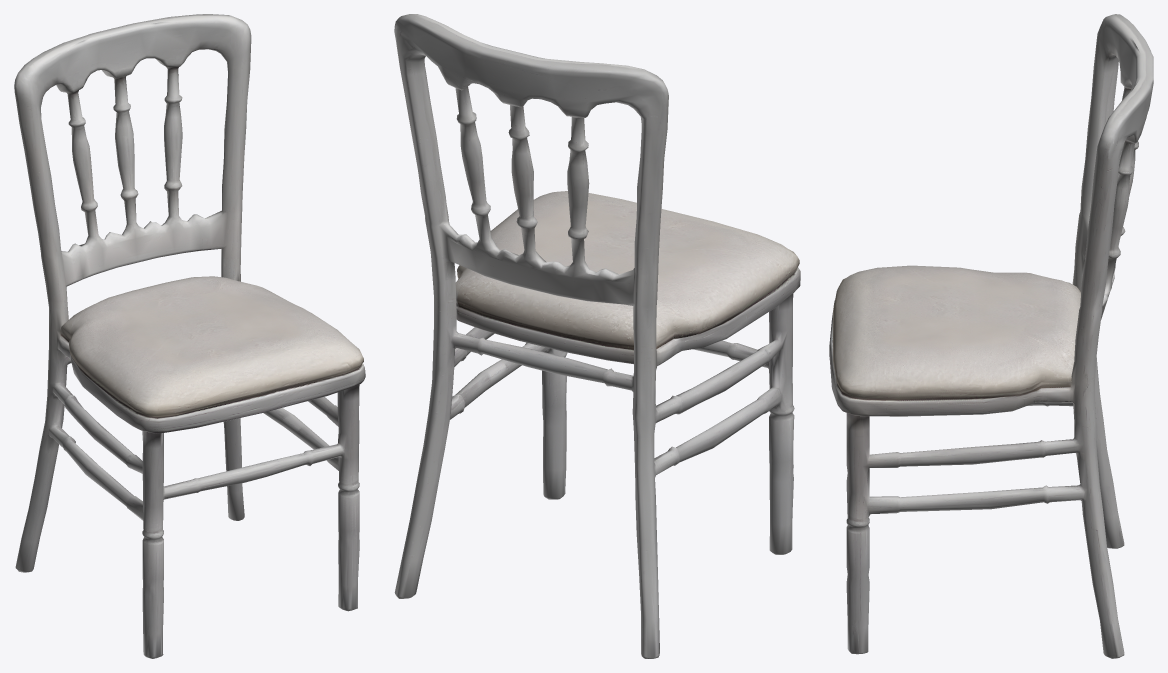
File: CHATEAU_Wood_Chair_W_0403042303_texture.glb
3 renders of one model, left to right at view 1: azimuth 30°, elevation 25°; view 2: azimuth 150°, elevation 25°; view 3: azimuth 270°, elevation 25°, orthographic. The views are drawn at different scales.
Visible parts, largest first — view 1: Mesh_0.003; view 2: Mesh_0.003; view 3: Mesh_0.003.
Part boxes in pixels (x1=…): Mesh_0.003: x1=14, y1=14, x2=365, y2=658; Mesh_0.003: x1=394, y1=14, x2=800, y2=658; Mesh_0.003: x1=829, y1=14, x2=1153, y2=658.
Size of the model in its own units: 0.3956 by 0.8128 by 0.444.
Materials: 1 (1 with a texture image).
